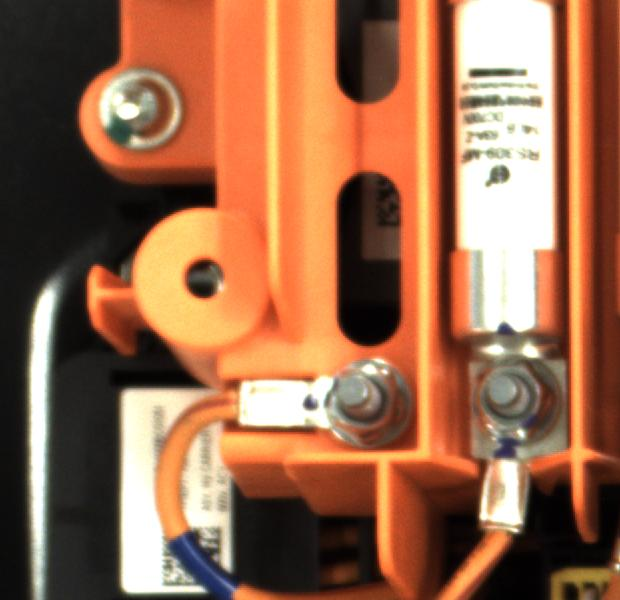screw_m: (85, 66, 193, 150)
screw_s: (458, 357, 568, 447), (321, 351, 413, 451)
